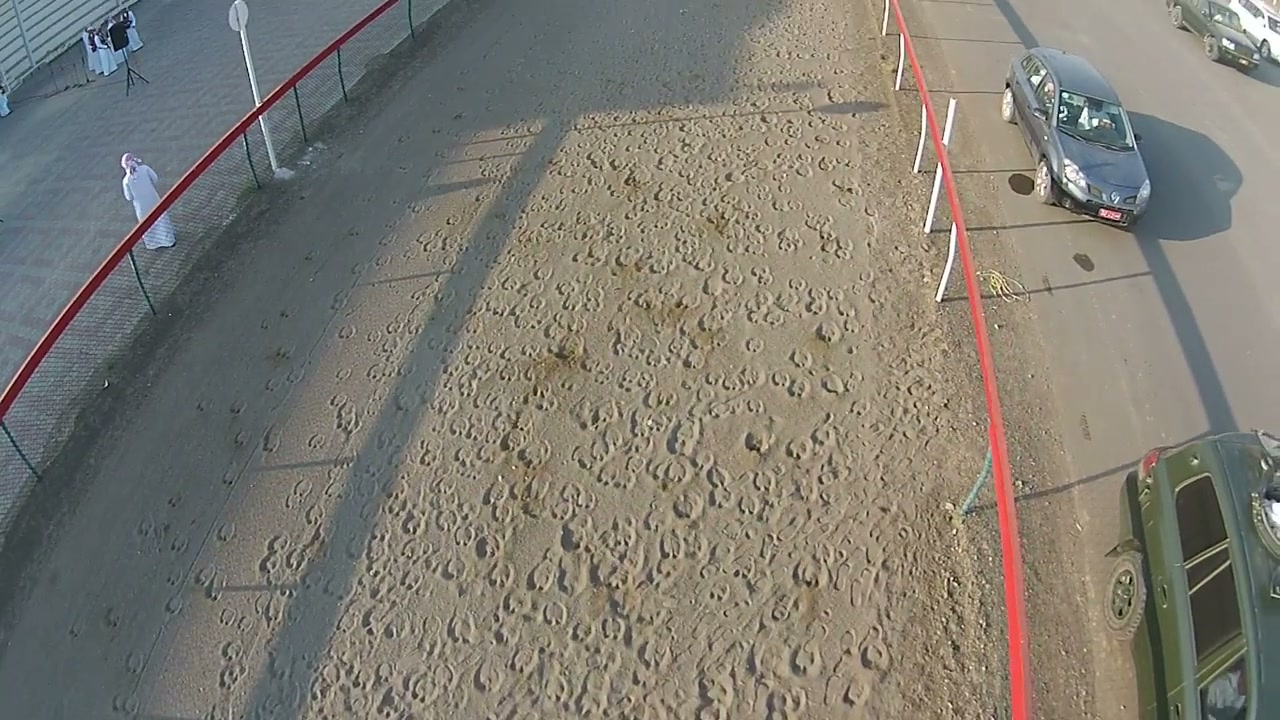animal_footprint: (124, 0, 970, 719)
